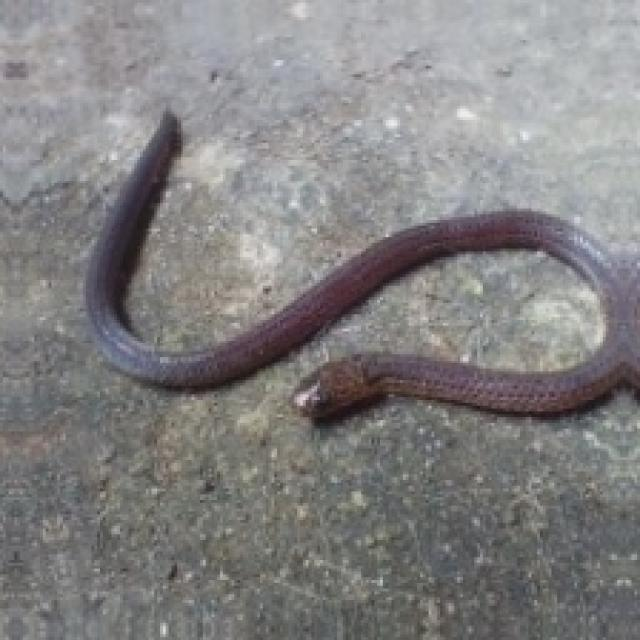gervais worm snake: (86, 111, 637, 417)
